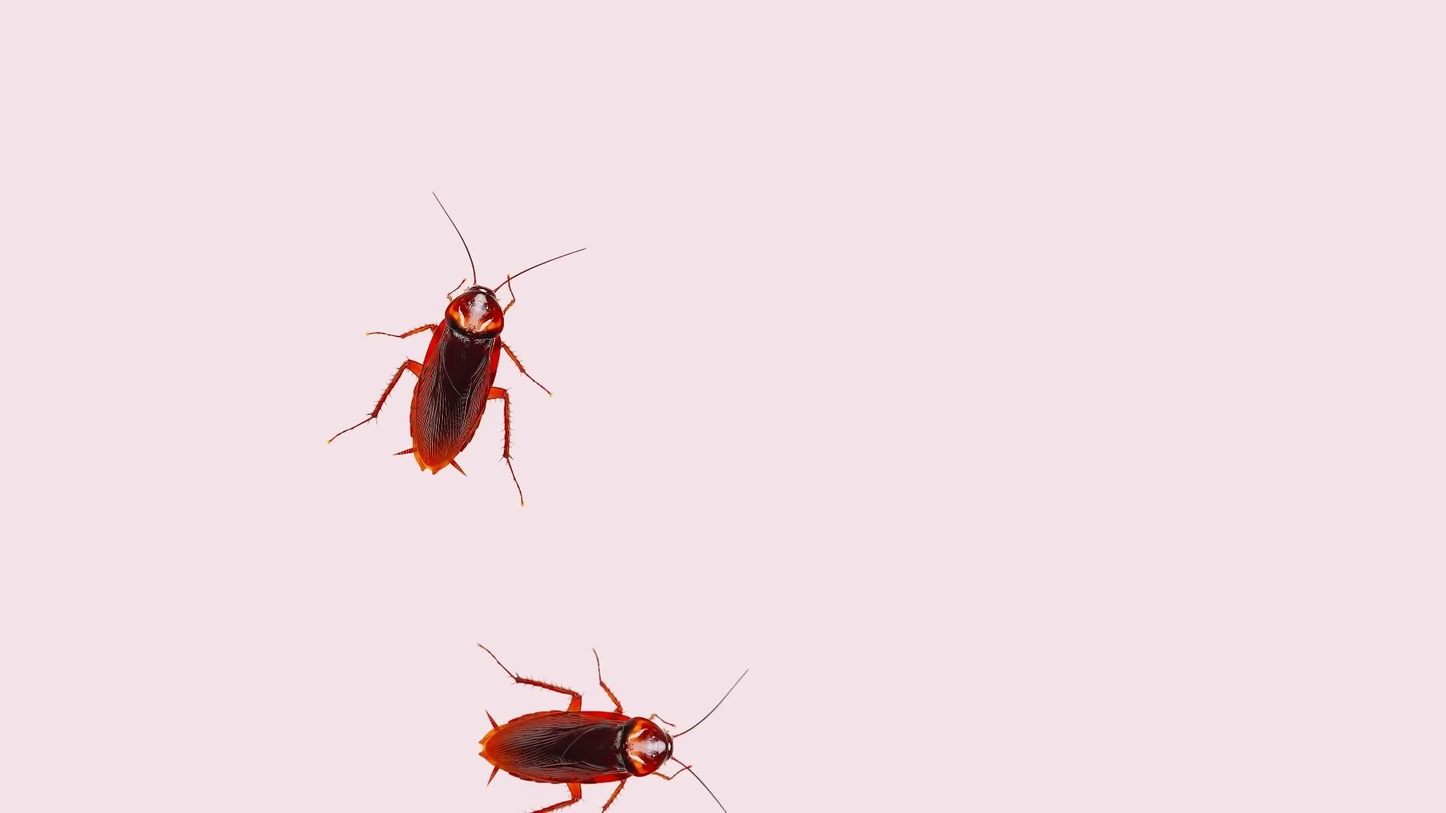cockroach: (330, 185, 569, 502), (475, 629, 721, 813)
